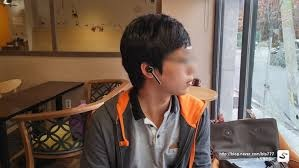earphone: (141, 61, 156, 79)
